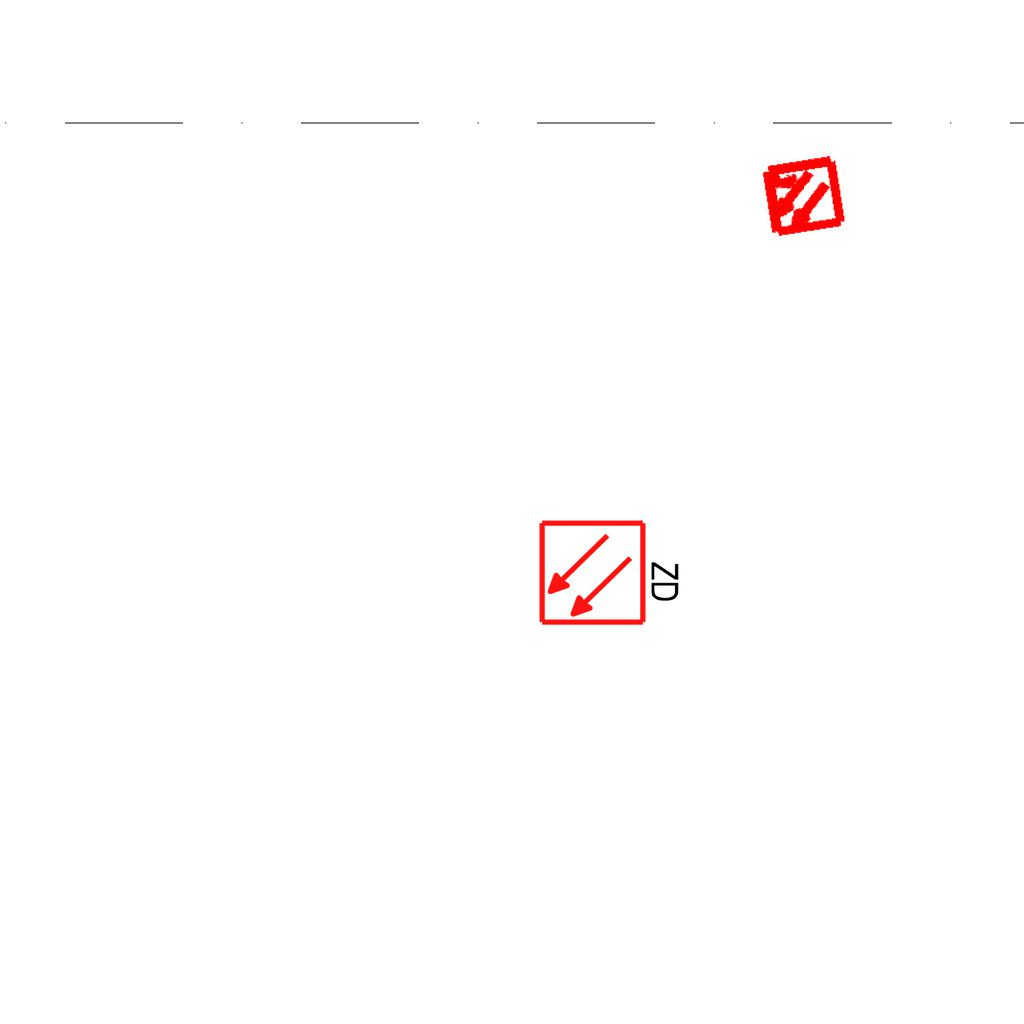OT_Multisensormelder_(Kombination_RMO_WMD): (736, 131, 867, 262)
ZD_Melder_in_Zwischendecke_mit_Revisionsoeffnung_mind_40_x_40_cm: (537, 514, 686, 628)
